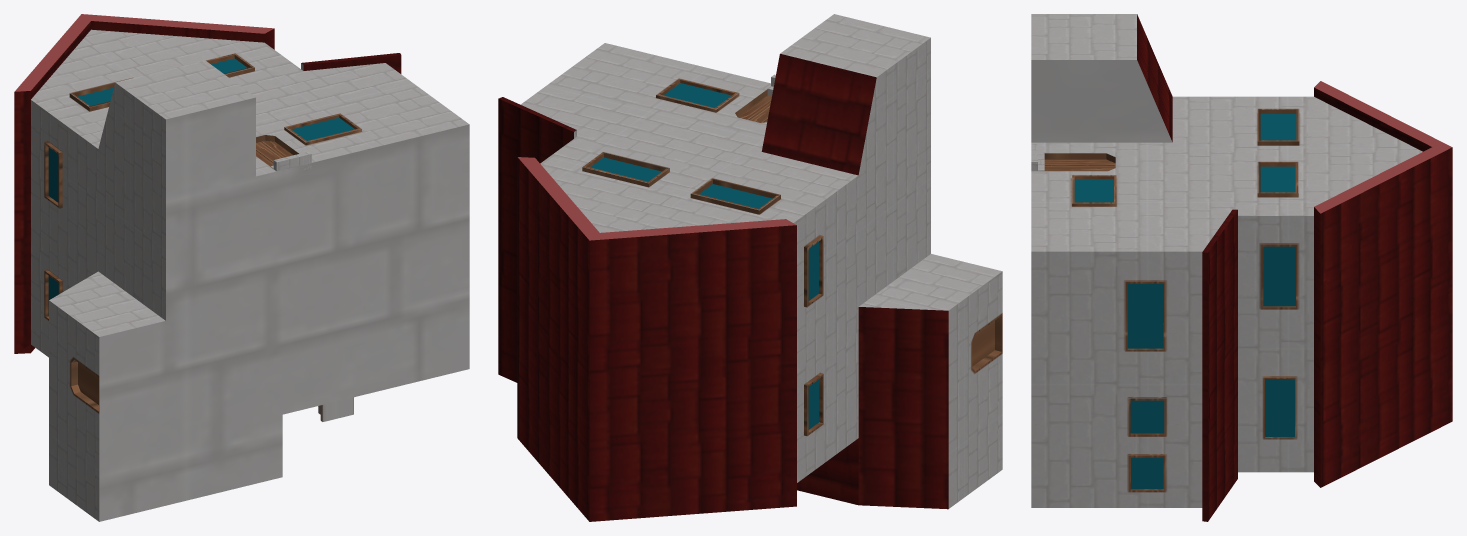
The model's file is house-01.obj.
3 renders of one model, left to right at view 1: azimuth 30°, elevation 25°; view 2: azimuth 150°, elevation 25°; view 3: azimuth 270°, elevation 25°, orthographic. The views are drawn at different scales.
Parts seen in each view (by area): view 1: house-01_Cube.011; view 2: house-01_Cube.011; view 3: house-01_Cube.011.
Part boxes in pixels (box(x1,y1,x2,y2)): house-01_Cube.011: box(14, 14, 469, 521); house-01_Cube.011: box(498, 14, 1002, 521); house-01_Cube.011: box(1031, 14, 1452, 521).
Bounding box in the file's own units: 8.48 × 8.19 × 7.67.
